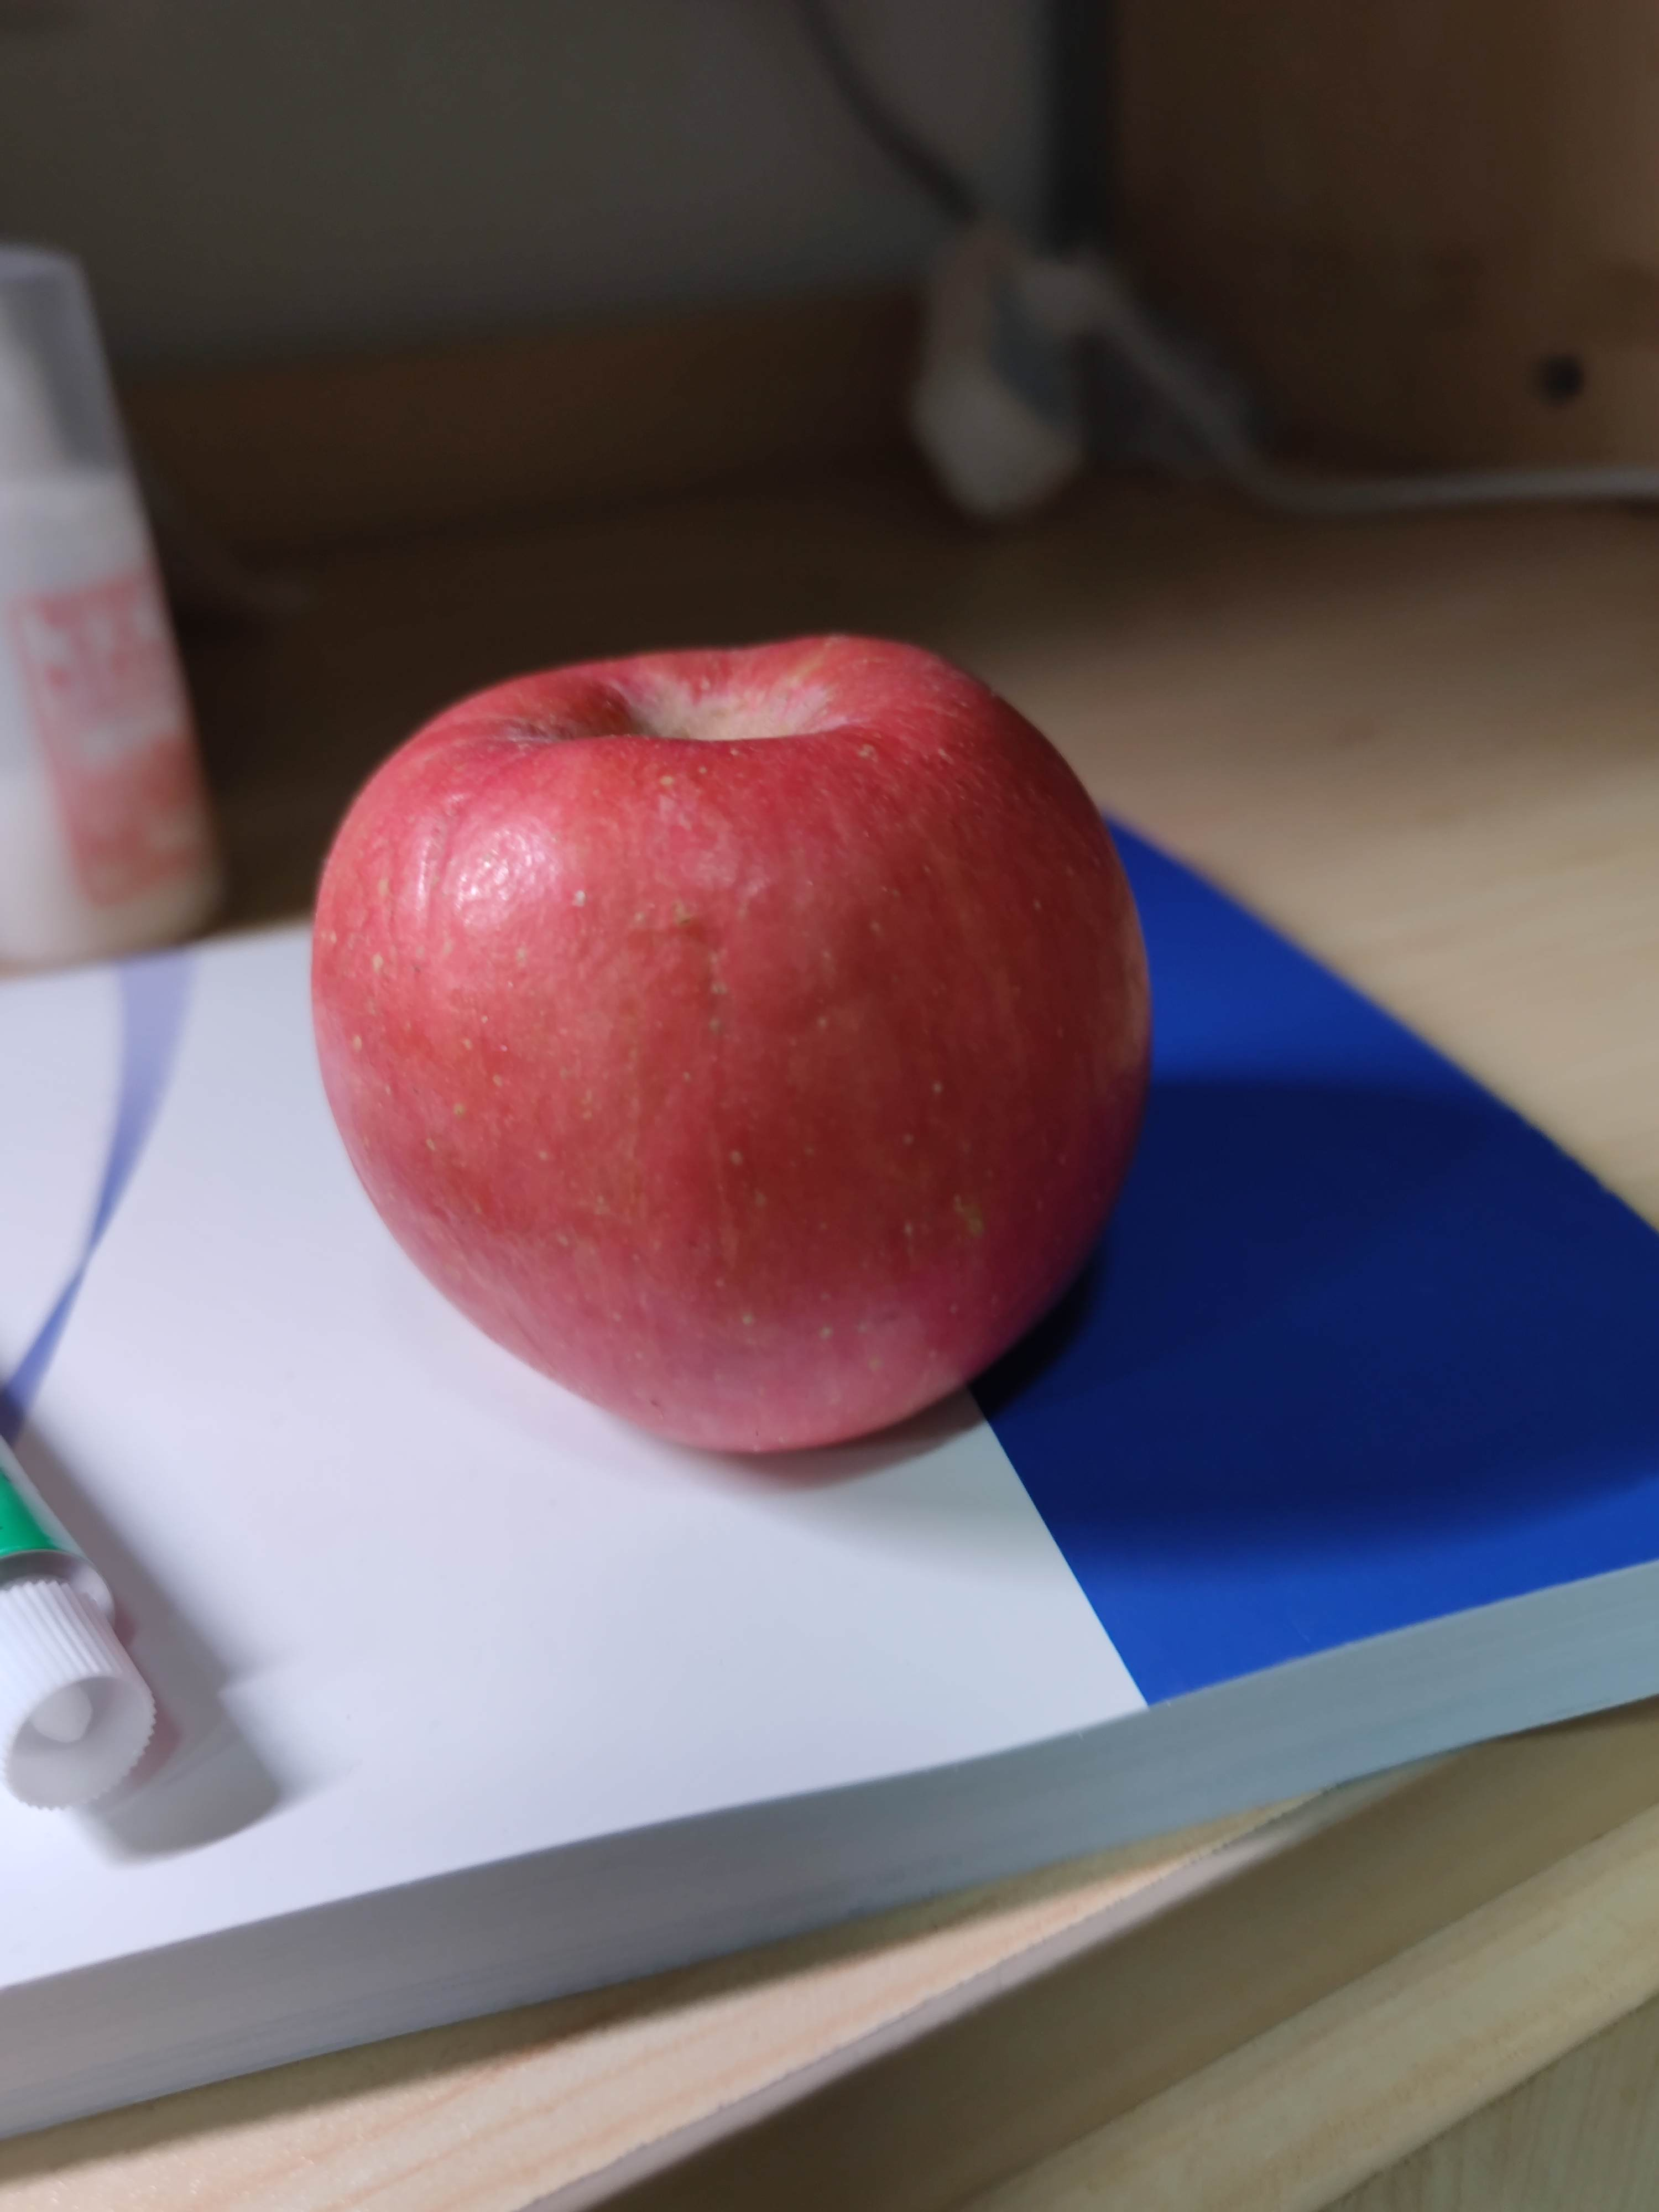apple: (308, 620, 1168, 1472)
